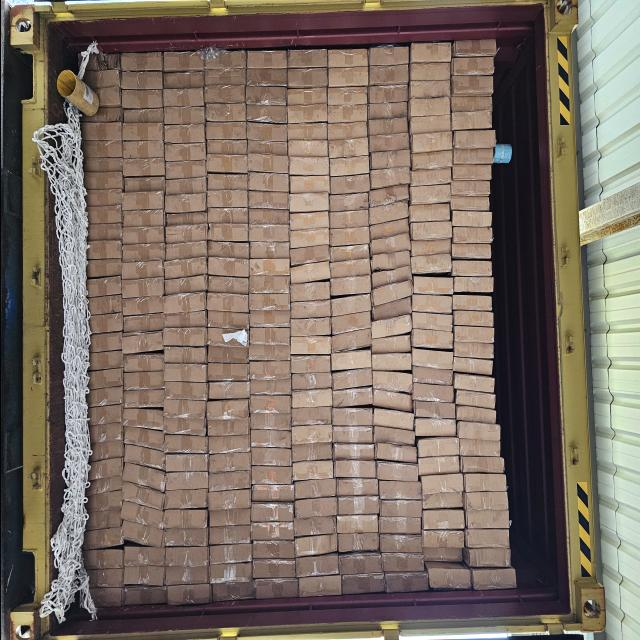Carton: (424, 562, 469, 590), (420, 539, 464, 564), (296, 554, 340, 578), (371, 280, 411, 306), (420, 530, 463, 554), (164, 547, 210, 569), (419, 486, 461, 510), (121, 523, 163, 547), (123, 464, 165, 488), (162, 293, 206, 315), (338, 554, 382, 576), (294, 534, 337, 556), (122, 444, 164, 466), (418, 475, 460, 497), (166, 585, 210, 606), (121, 332, 163, 354), (420, 510, 462, 531), (370, 314, 410, 336), (377, 481, 421, 501), (207, 489, 251, 509), (162, 510, 206, 530), (162, 490, 206, 510), (162, 328, 206, 348), (120, 278, 164, 298), (206, 525, 250, 545), (250, 522, 294, 542), (375, 461, 419, 481), (164, 379, 208, 399), (206, 472, 250, 492), (164, 401, 208, 421), (164, 416, 208, 436), (378, 534, 422, 554), (164, 260, 208, 280), (332, 458, 376, 478), (464, 511, 508, 531), (162, 565, 206, 585), (249, 504, 293, 524), (207, 545, 250, 565), (162, 364, 205, 384), (251, 558, 294, 578), (380, 554, 423, 574), (448, 76, 491, 96), (409, 257, 452, 277), (202, 51, 245, 71), (206, 452, 249, 472), (122, 586, 165, 606), (205, 400, 248, 420), (463, 529, 508, 548), (450, 57, 492, 77), (120, 53, 162, 73), (120, 90, 162, 110), (122, 547, 164, 567), (163, 125, 205, 145), (416, 438, 458, 458), (414, 418, 456, 438), (292, 460, 334, 480), (121, 316, 163, 336), (119, 70, 161, 90), (160, 88, 202, 108), (122, 298, 164, 318), (336, 496, 378, 516), (249, 430, 291, 450), (162, 472, 204, 492), (410, 330, 452, 350), (122, 427, 162, 448), (330, 276, 370, 297), (248, 447, 290, 467), (293, 497, 335, 517), (410, 132, 452, 152), (206, 258, 248, 278), (206, 294, 248, 314), (412, 350, 454, 370), (410, 42, 452, 62), (292, 517, 334, 537), (450, 110, 492, 130), (466, 549, 508, 569), (205, 381, 247, 401), (290, 480, 332, 500), (122, 389, 164, 409), (122, 566, 164, 586), (330, 332, 370, 353), (164, 453, 208, 472), (164, 530, 208, 549), (337, 532, 378, 552), (408, 184, 449, 204), (284, 104, 325, 124), (122, 409, 163, 429), (410, 276, 451, 296), (288, 388, 329, 408), (372, 410, 413, 430), (289, 424, 330, 444), (327, 50, 368, 70), (372, 391, 411, 412), (162, 106, 205, 125), (162, 194, 205, 213), (204, 191, 247, 210), (611, 406, 640, 434), (379, 499, 424, 517), (286, 194, 326, 214), (246, 172, 286, 192), (162, 52, 202, 72), (288, 316, 328, 336), (369, 168, 409, 188), (286, 68, 326, 88), (82, 550, 122, 570), (332, 370, 372, 390), (288, 282, 328, 302), (369, 222, 409, 242), (327, 68, 367, 88), (330, 296, 370, 316), (330, 388, 370, 408), (246, 87, 286, 107), (371, 372, 411, 392), (288, 264, 328, 284), (286, 50, 326, 70), (246, 155, 286, 175), (288, 157, 328, 177), (366, 48, 406, 68), (246, 52, 286, 72), (328, 158, 368, 178), (330, 350, 370, 370), (368, 66, 408, 86), (289, 407, 329, 427), (288, 245, 328, 265), (370, 203, 410, 223), (417, 456, 459, 475), (122, 353, 164, 372), (373, 444, 415, 463), (410, 152, 452, 171), (163, 436, 205, 455), (206, 329, 248, 348), (248, 328, 290, 347), (208, 563, 250, 582), (121, 228, 165, 246), (162, 346, 206, 364), (206, 510, 250, 528), (248, 361, 292, 379), (250, 540, 294, 558), (164, 240, 208, 258), (378, 518, 422, 536), (450, 38, 494, 56), (82, 528, 121, 548), (367, 85, 406, 105), (332, 408, 373, 427), (204, 86, 245, 105), (409, 223, 450, 242), (461, 475, 504, 493), (204, 123, 247, 141), (163, 143, 206, 161), (205, 418, 248, 436), (205, 156, 248, 174), (250, 484, 293, 502), (245, 226, 288, 244), (165, 224, 208, 242), (120, 244, 163, 262), (408, 115, 451, 133), (288, 337, 328, 356), (372, 352, 412, 371), (370, 152, 410, 171), (329, 175, 369, 194), (327, 105, 367, 124), (328, 228, 368, 247), (452, 130, 494, 148), (410, 296, 452, 314), (450, 164, 492, 182), (160, 71, 202, 89), (250, 466, 292, 484), (458, 440, 500, 458), (336, 516, 378, 534), (411, 312, 453, 330), (121, 191, 163, 209), (122, 124, 164, 142), (289, 444, 331, 462), (206, 362, 248, 380), (334, 480, 376, 498), (408, 64, 450, 82), (449, 94, 491, 112), (246, 124, 288, 142), (162, 162, 204, 180), (123, 160, 165, 178), (122, 210, 164, 228), (412, 384, 454, 402), (205, 346, 247, 364), (406, 98, 448, 116), (372, 426, 414, 444), (206, 435, 248, 453), (204, 104, 246, 122), (413, 402, 455, 420), (207, 240, 249, 258), (250, 397, 292, 415), (248, 292, 290, 310), (122, 141, 164, 159), (205, 276, 247, 294), (408, 80, 450, 98), (250, 412, 292, 430), (120, 262, 162, 280), (247, 310, 289, 328), (204, 172, 246, 190), (248, 378, 290, 396), (205, 207, 247, 225), (464, 492, 508, 509), (162, 312, 206, 329), (407, 204, 448, 222), (327, 88, 368, 106), (82, 140, 123, 158), (247, 242, 288, 260), (409, 168, 450, 186), (412, 368, 453, 386), (327, 124, 368, 142), (367, 118, 408, 136), (80, 124, 121, 142), (248, 345, 291, 362), (286, 124, 326, 142), (121, 372, 161, 390), (451, 210, 491, 228), (450, 276, 490, 294), (327, 138, 367, 156), (331, 425, 371, 443), (370, 336, 410, 354), (368, 134, 408, 152), (329, 210, 369, 228), (329, 260, 369, 278), (246, 68, 286, 86), (454, 375, 494, 393), (248, 276, 288, 294), (246, 192, 286, 210), (287, 230, 327, 248), (286, 89, 326, 107), (288, 354, 328, 372), (328, 195, 368, 213), (249, 260, 289, 278), (246, 105, 286, 123), (86, 386, 122, 406), (289, 373, 329, 391), (208, 223, 248, 241), (286, 175, 326, 193), (286, 212, 326, 230), (248, 208, 288, 226), (83, 569, 123, 587), (288, 301, 328, 319), (370, 252, 410, 270), (368, 270, 408, 288), (205, 139, 247, 156), (204, 69, 246, 86), (206, 312, 248, 329), (85, 370, 122, 389), (331, 444, 372, 461), (459, 457, 502, 473), (84, 172, 122, 190), (86, 277, 120, 297), (456, 407, 496, 424), (86, 240, 120, 260), (453, 357, 493, 374), (87, 406, 121, 426), (286, 140, 326, 157), (87, 350, 121, 370), (456, 422, 496, 439), (369, 237, 409, 254), (89, 442, 123, 462), (367, 102, 407, 119), (606, 332, 640, 352), (162, 178, 204, 194), (452, 148, 494, 164), (122, 176, 164, 192), (88, 206, 121, 226), (88, 422, 121, 442), (121, 108, 162, 124), (247, 140, 288, 156), (86, 188, 122, 206), (604, 294, 640, 312), (88, 314, 122, 333), (86, 297, 120, 316), (452, 243, 490, 260), (165, 212, 208, 227), (455, 391, 495, 407), (454, 328, 494, 344), (452, 312, 492, 328), (89, 334, 121, 354), (452, 228, 492, 244), (410, 240, 450, 256), (454, 343, 494, 359), (452, 296, 492, 312), (450, 196, 490, 212), (450, 180, 490, 196), (330, 246, 370, 262), (452, 262, 491, 278), (87, 225, 121, 243), (82, 159, 122, 174), (86, 260, 118, 278), (98, 88, 120, 109)
